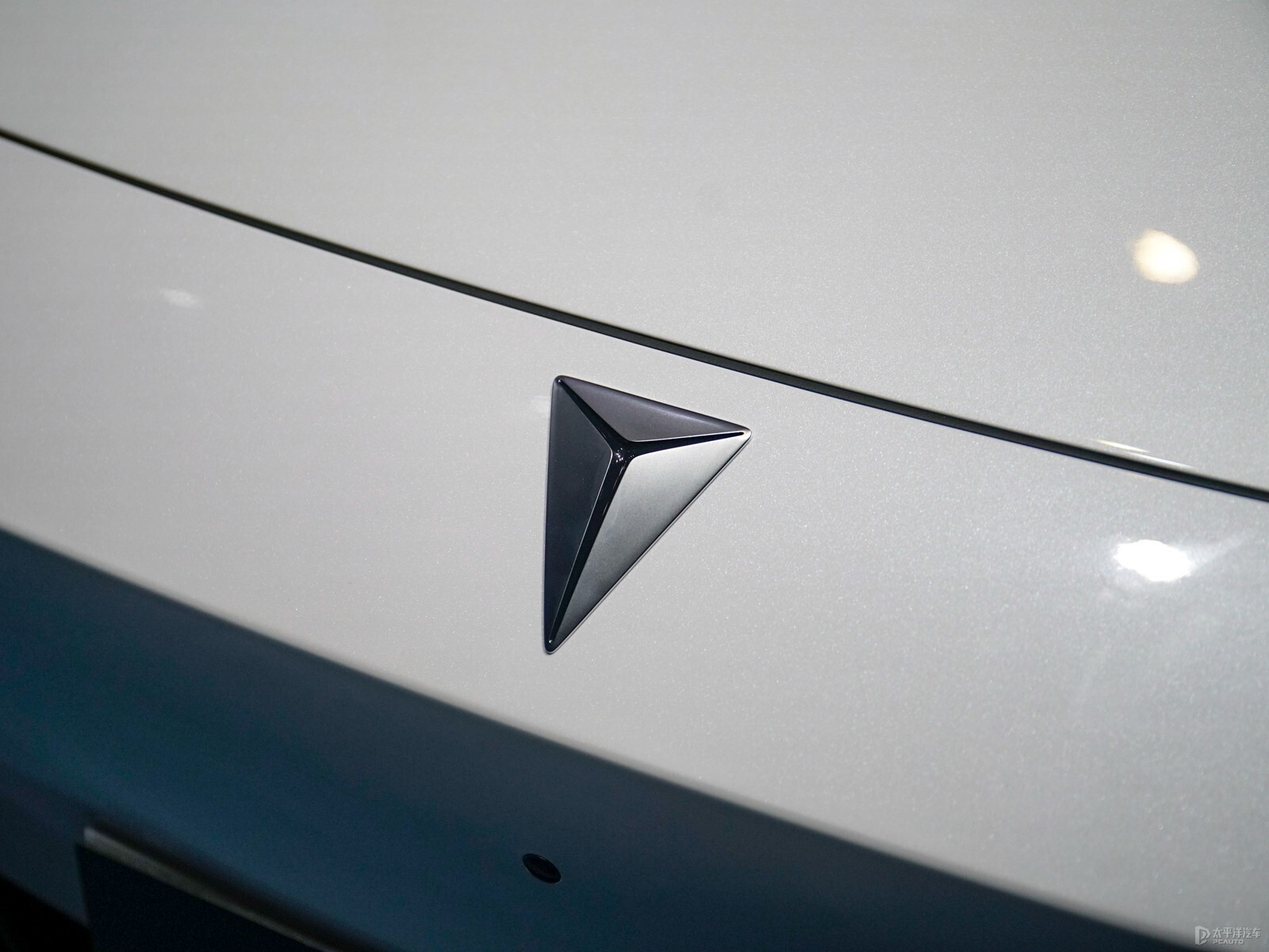Deepal: (542, 376, 752, 654)
